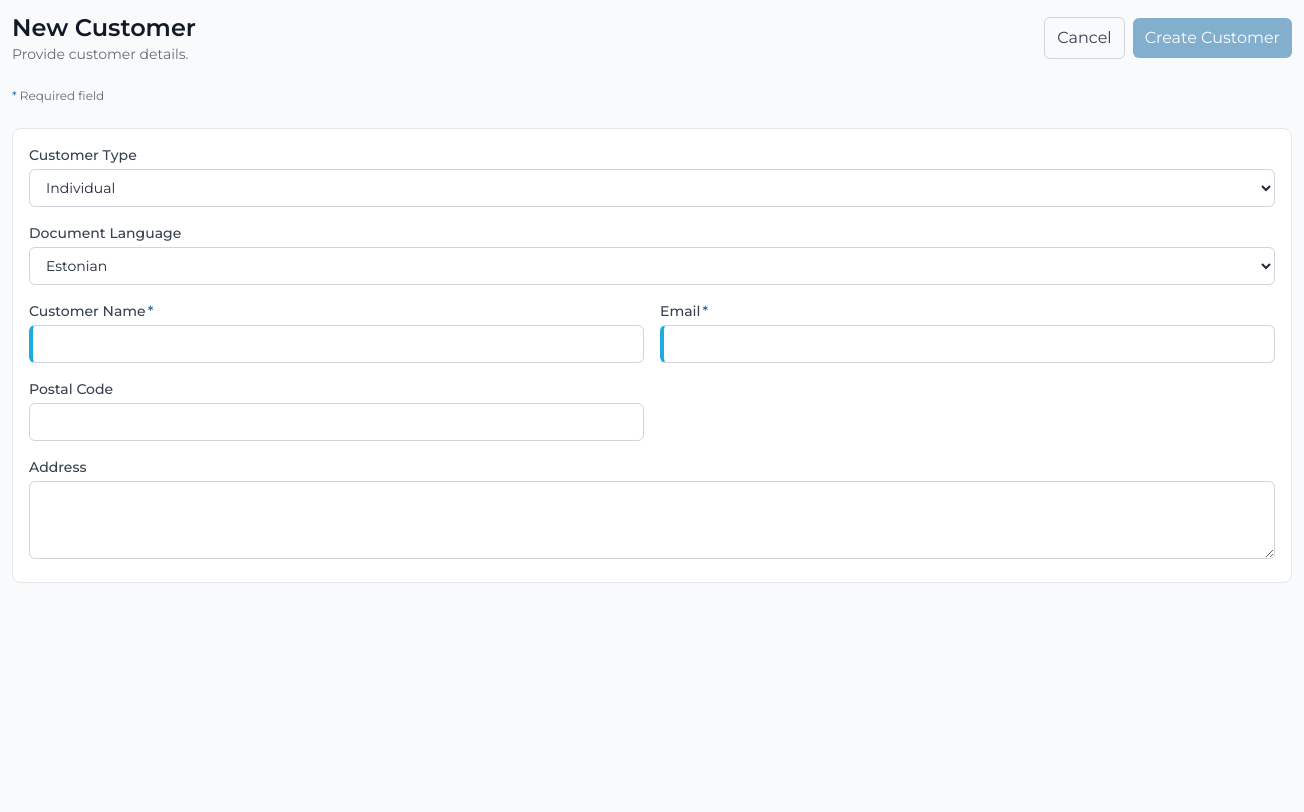
Scenario: CustomerForm classification › preserves a typed Company Name across a Business -> Individual -> Business toggle
Select "Business" in the dropdown labelled "Customer Type". click: (652, 188)
box: [29,169,1275,207]
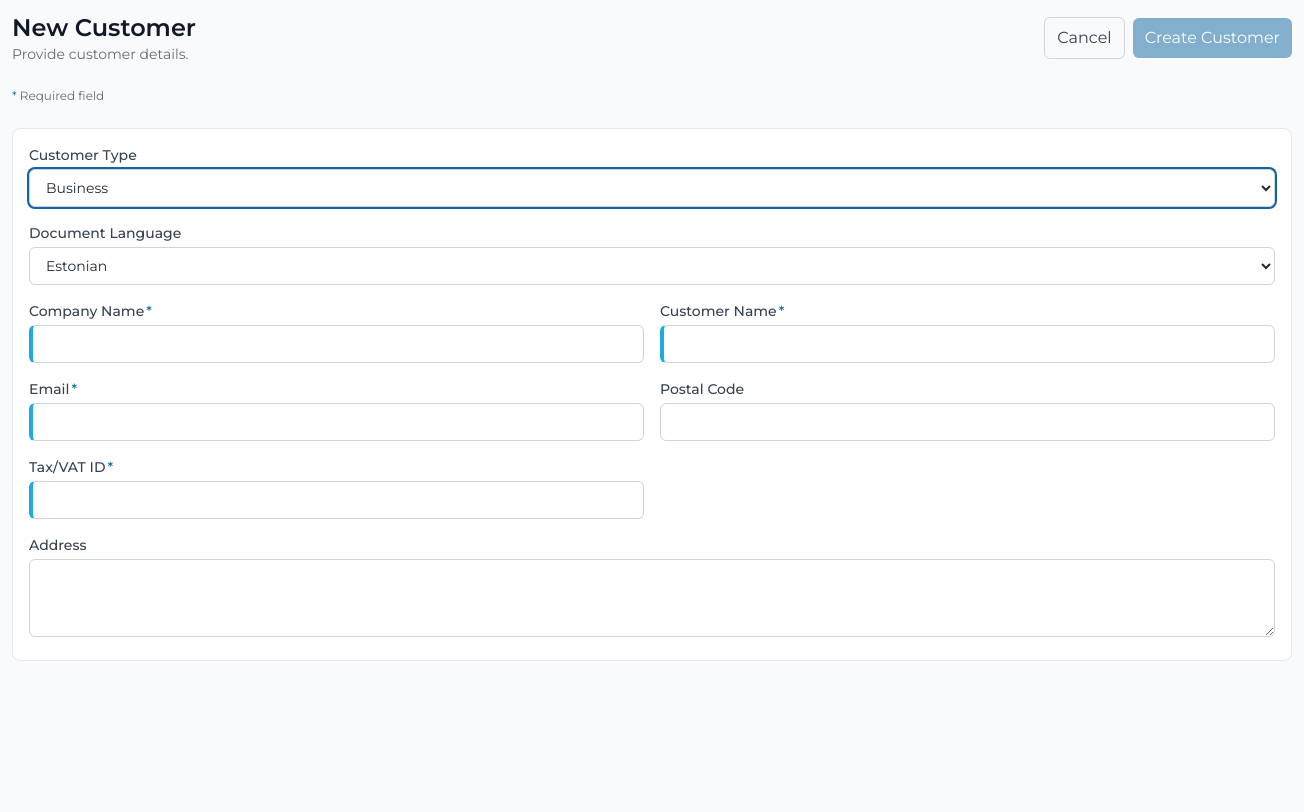
Type "Acme Corp" into the field labelled "Company Name". click: (336, 344)
box: [29,325,644,363]
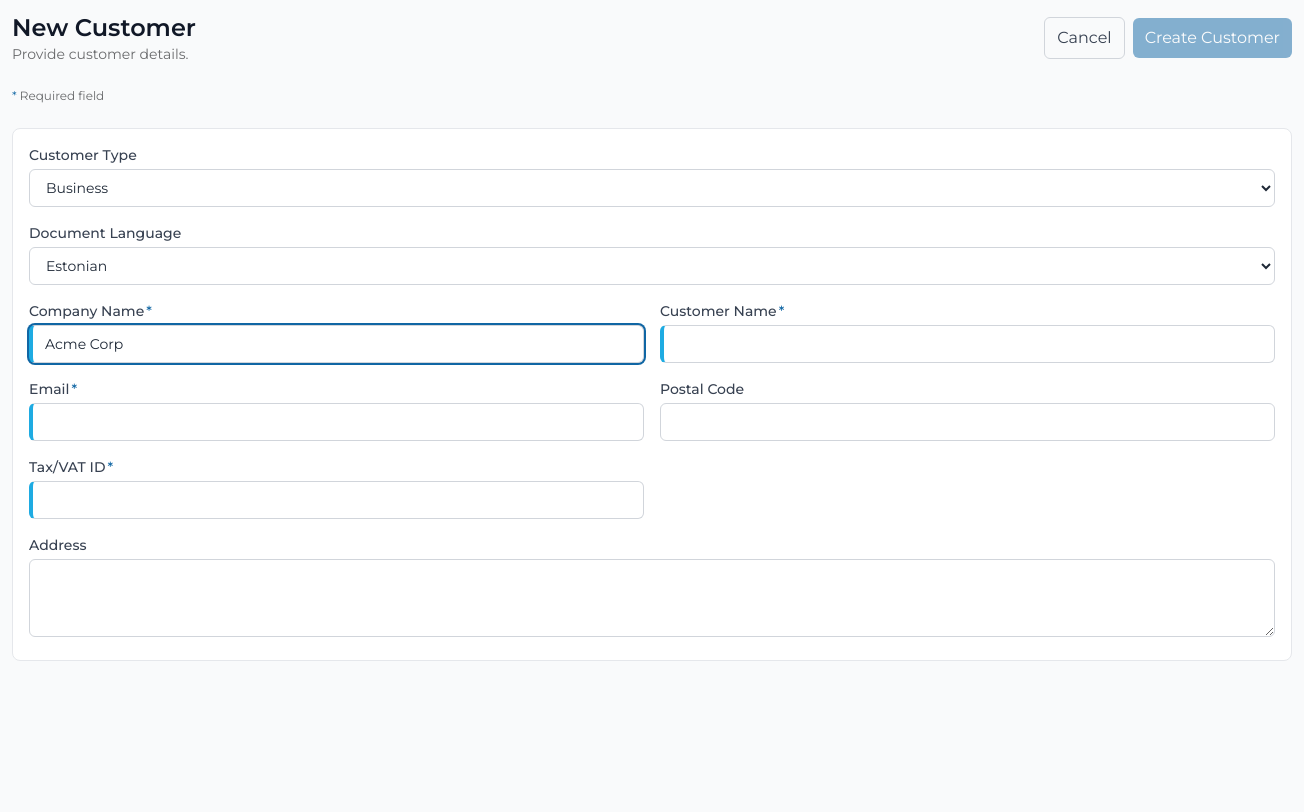
Select "Individual" in the dropdown labelled "Customer Type". click: (652, 188)
box: [29,169,1275,207]
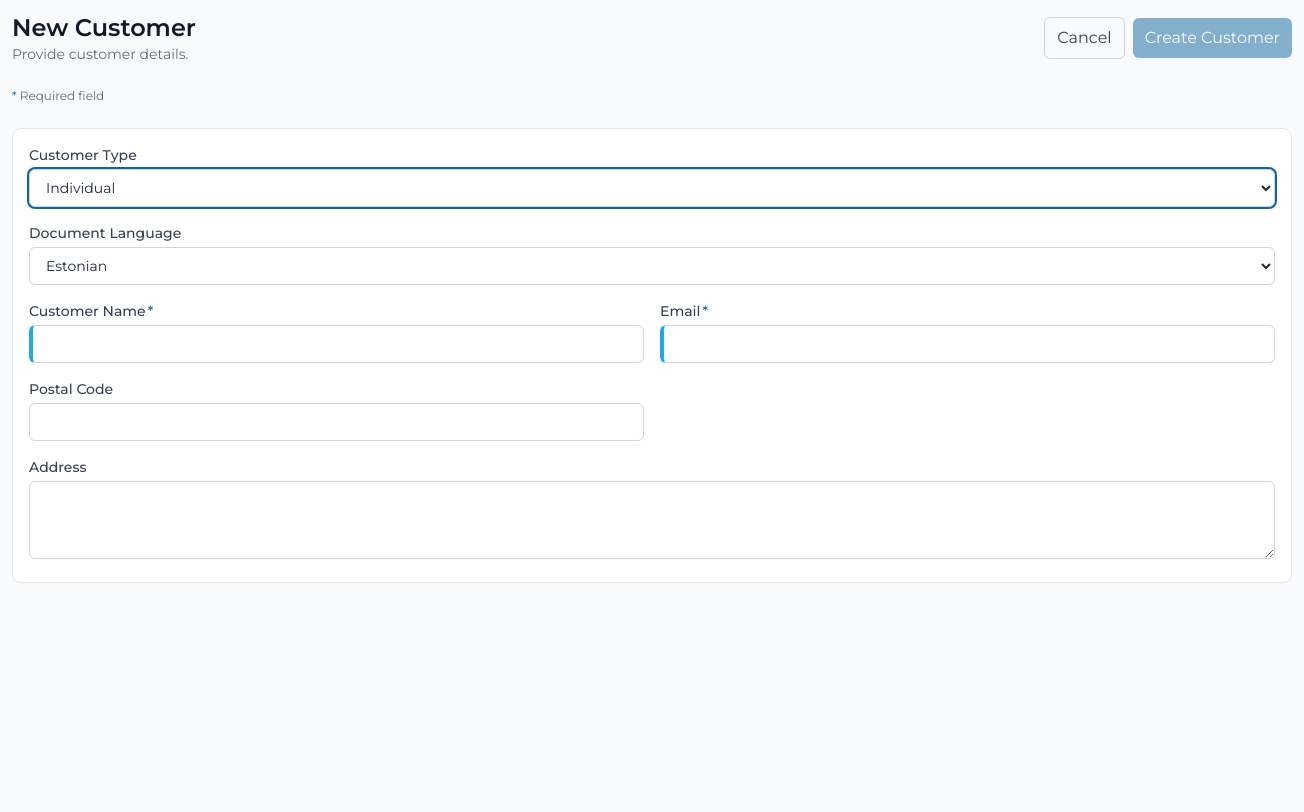
Result: the label labelled "Company Name" is gone
Select "Business" in the dropdown labelled "Customer Type". click: (652, 188)
box: [29,169,1275,207]
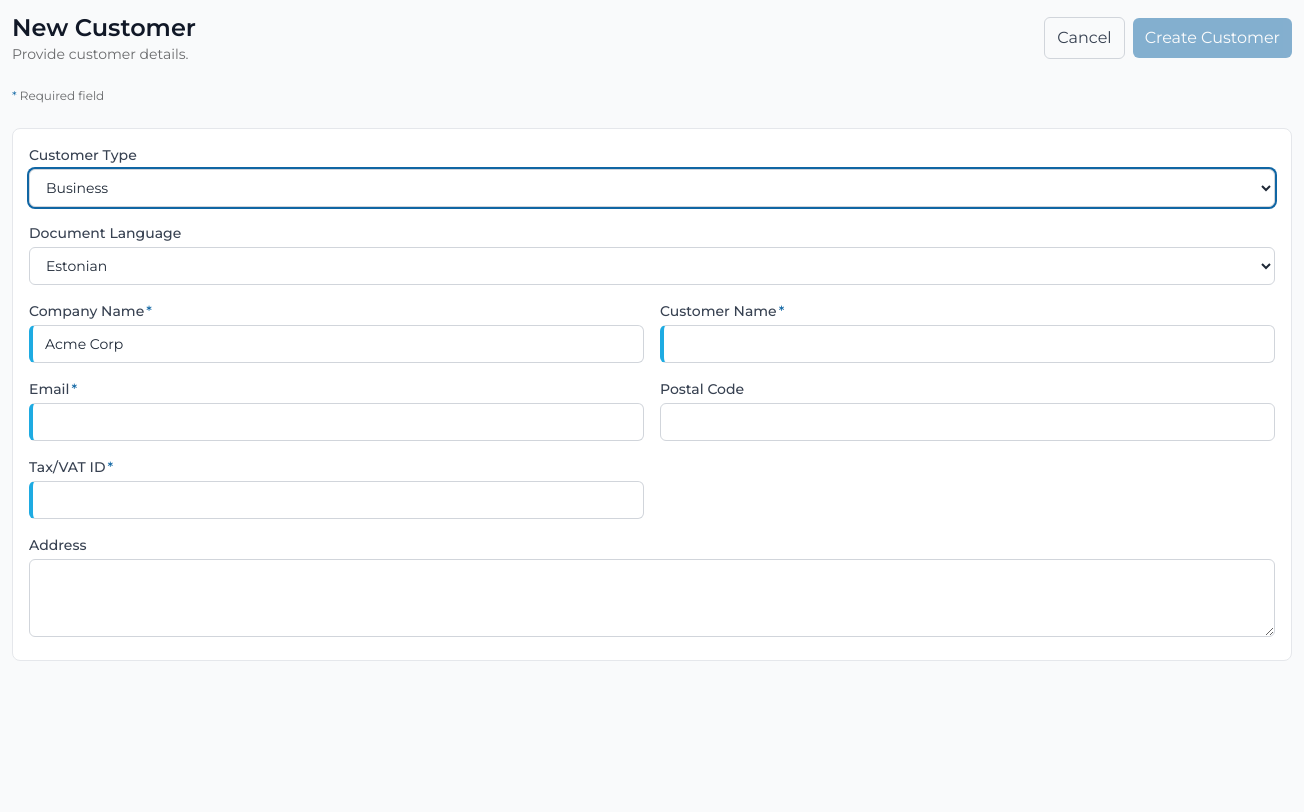
Result: the field labelled "Company Name" holds "Acme Corp" at [29,325,644,363]
